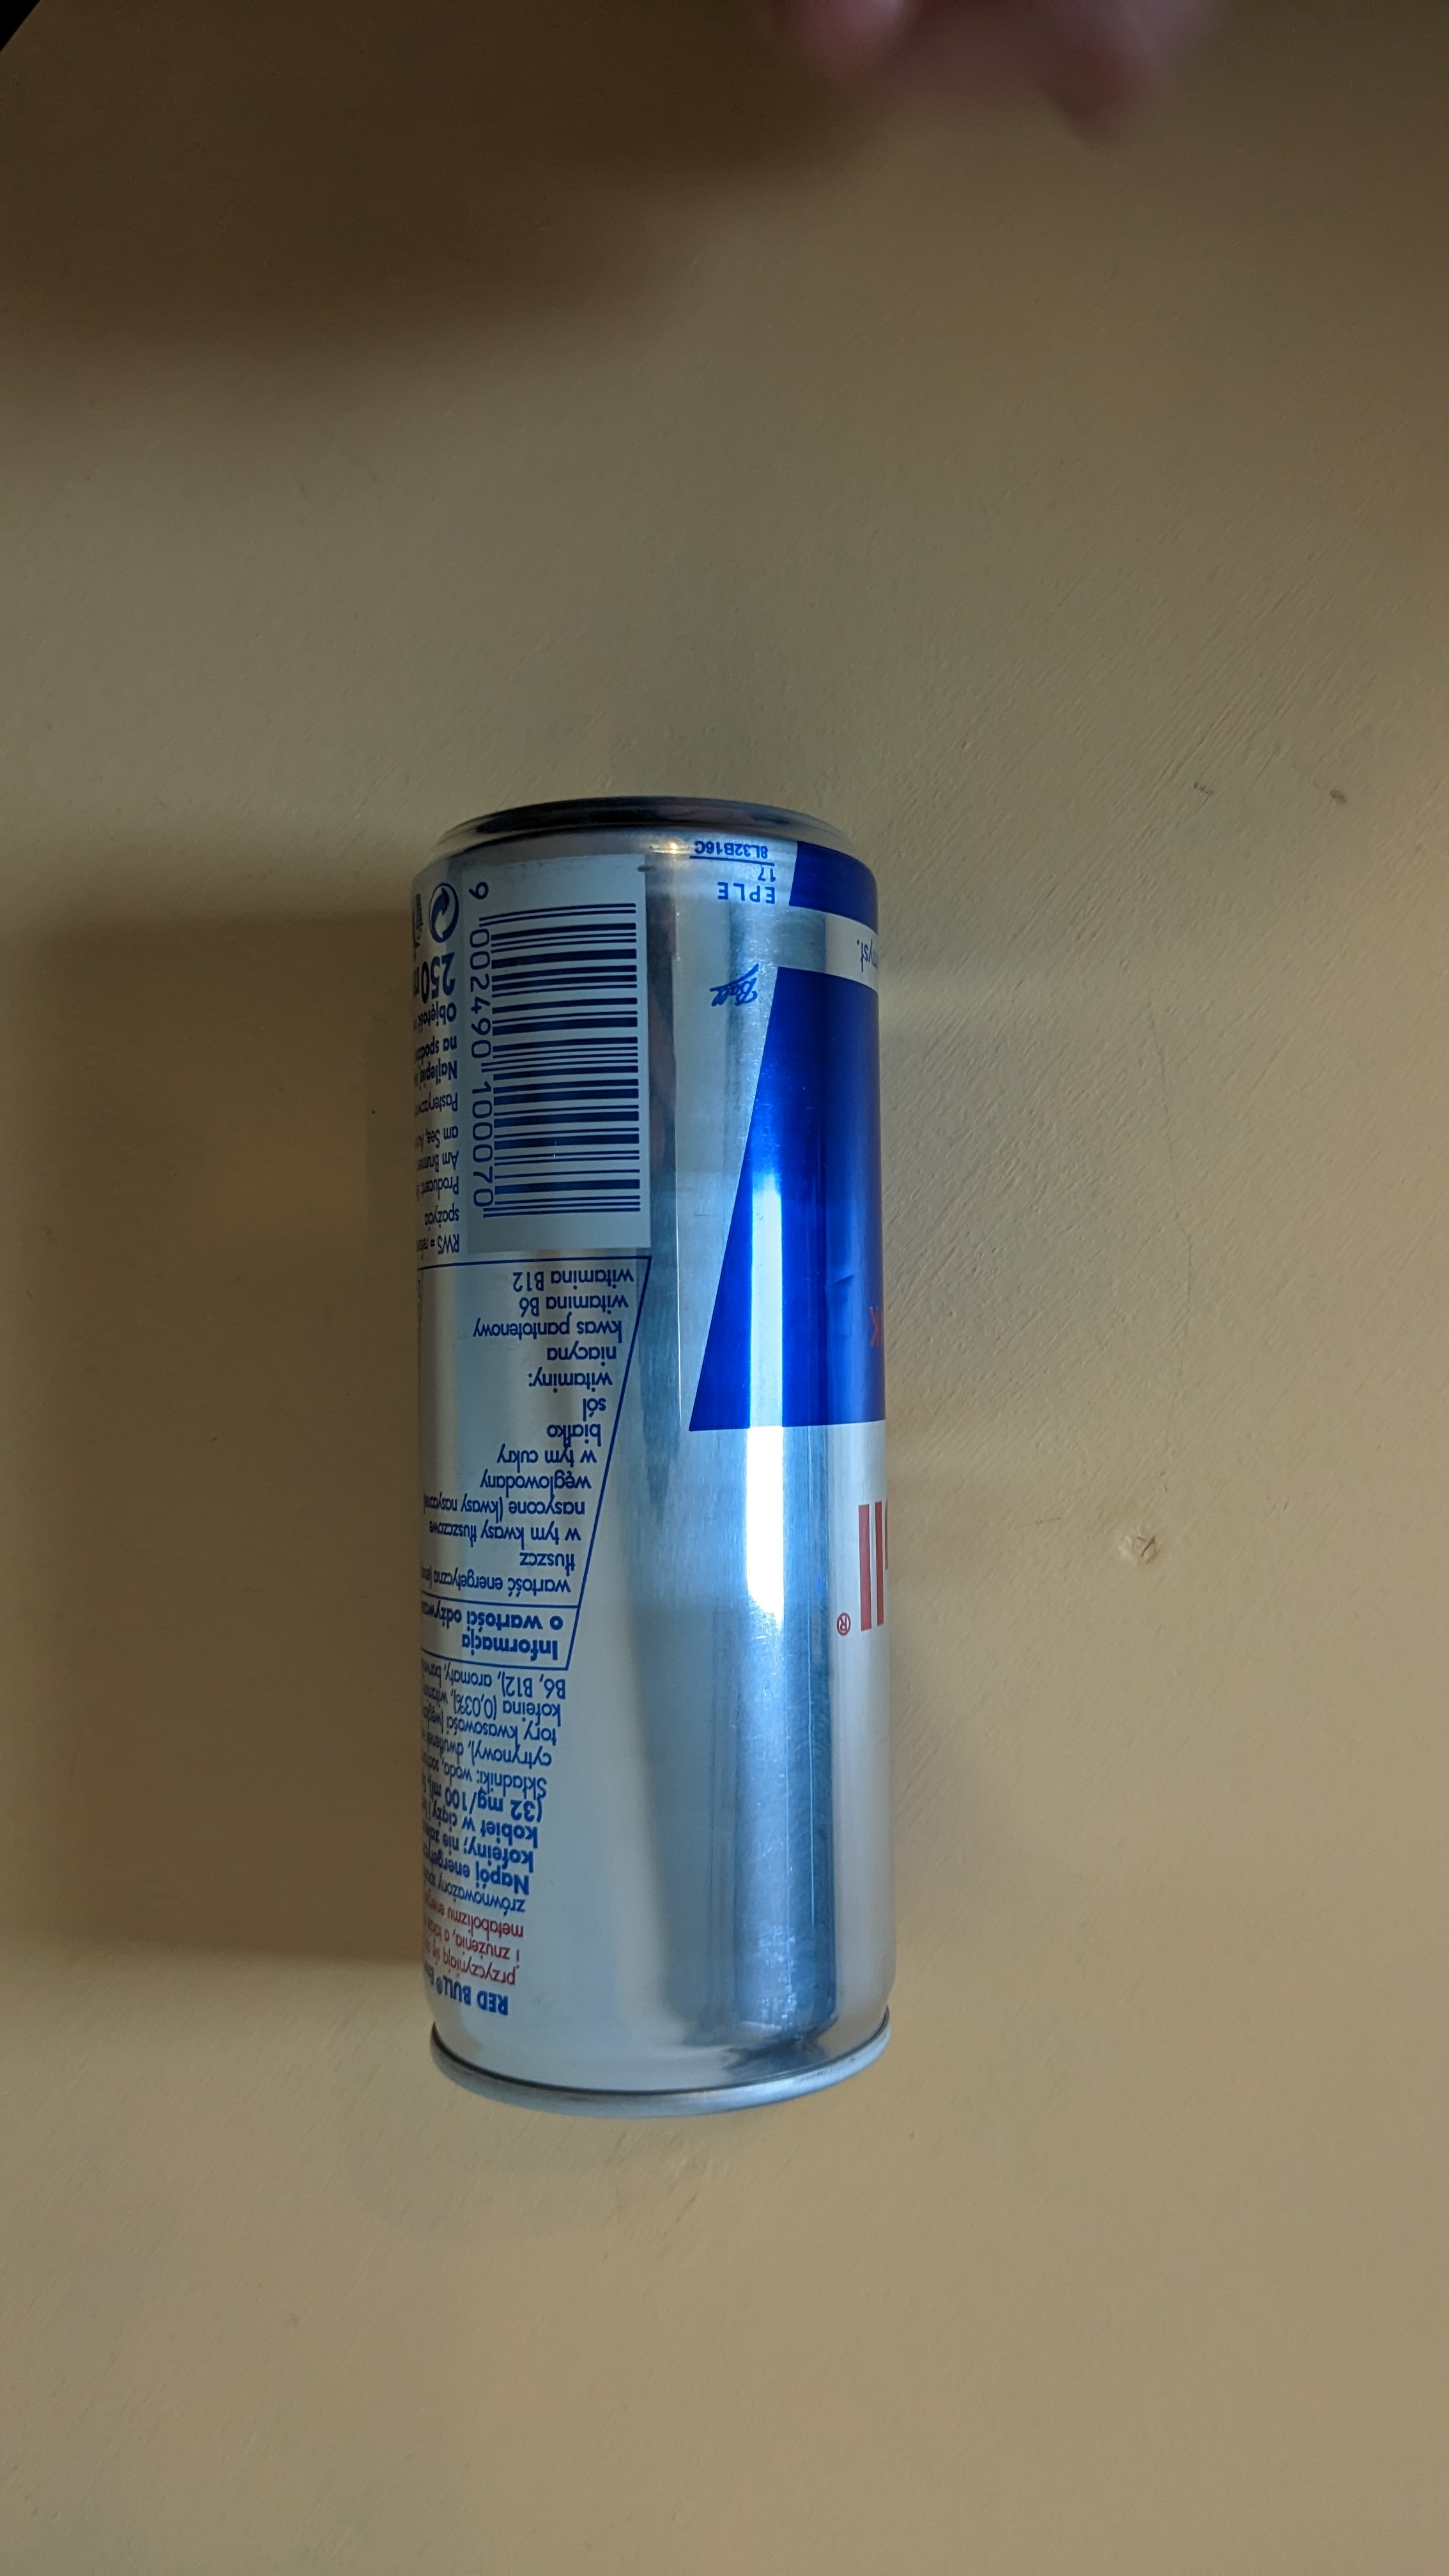red-bull: (396, 778, 918, 2132)
